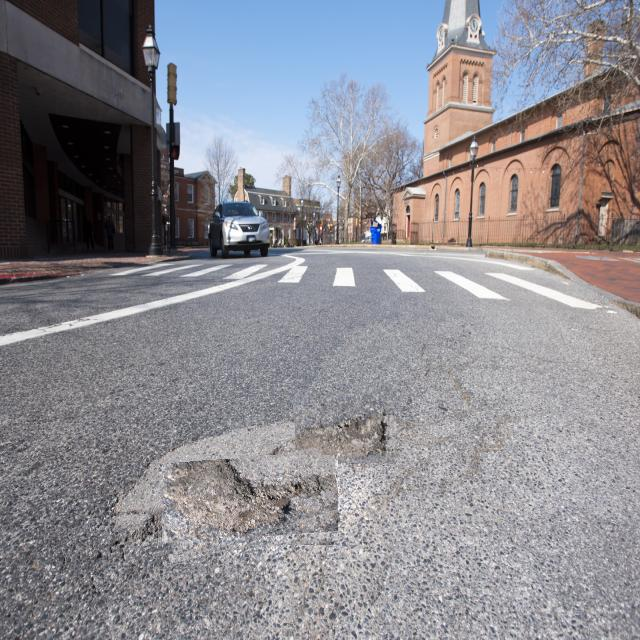Pothole: (154, 456, 338, 556), (293, 387, 398, 466)
